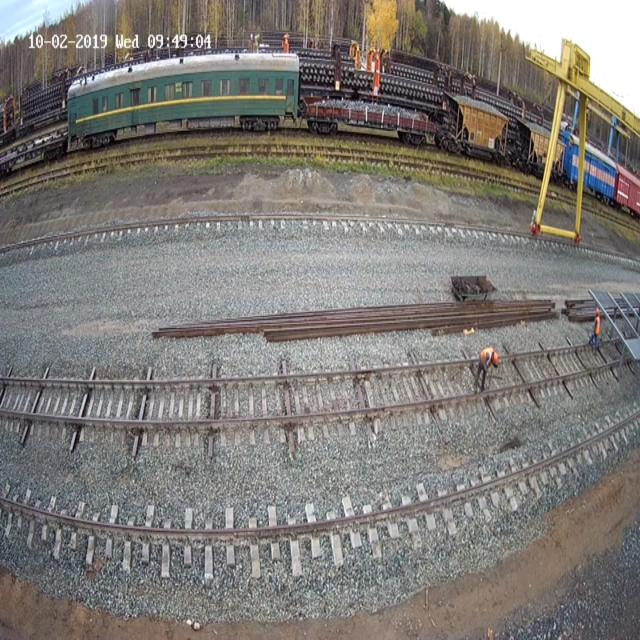Helmet: (492, 351, 498, 365), (595, 308, 600, 315)
Person: (473, 346, 499, 392), (592, 308, 600, 350)
